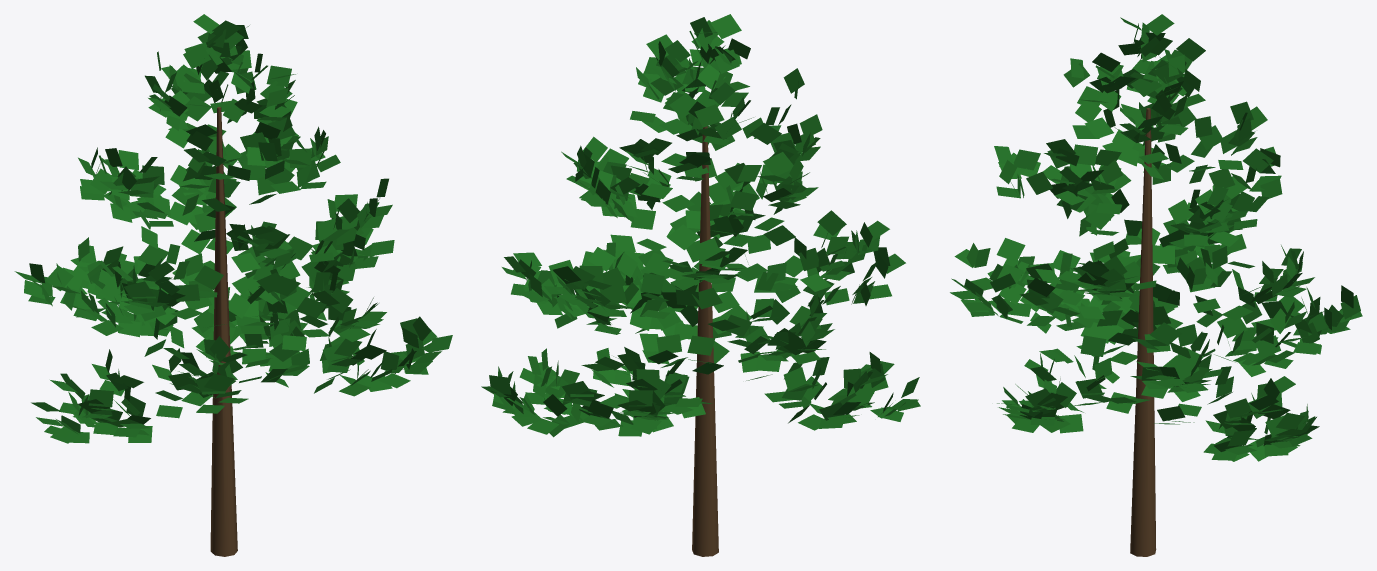
The model's file is mapletree.glb.
The picture shows the model from 3 angles, left to right: view 1: azimuth 30°, elevation 25°; view 2: azimuth 150°, elevation 25°; view 3: azimuth 270°, elevation 25°; orthographic projection.
Parts seen in each view (by area): view 1: lessleaves, wood; view 2: lessleaves, wood; view 3: lessleaves, wood.
Boxes of the visible parts, x1=… form: lessleaves: x1=14, y1=14, x2=452, y2=443; wood: x1=210, y1=107, x2=237, y2=556; lessleaves: x1=481, y1=14, x2=920, y2=437; wood: x1=692, y1=126, x2=718, y2=556; lessleaves: x1=950, y1=14, x2=1362, y2=461; wood: x1=1130, y1=108, x2=1156, y2=556.
Size of the model in its own units: 1.8 by 2.39 by 1.69.
